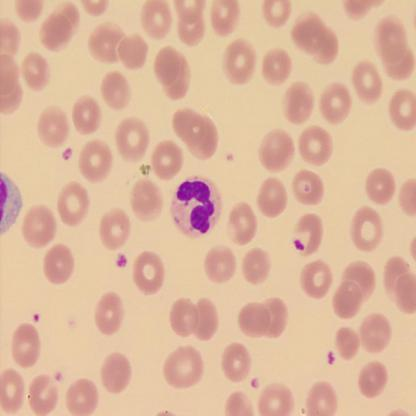Segmented neutrophil: (168, 172, 223, 238)
